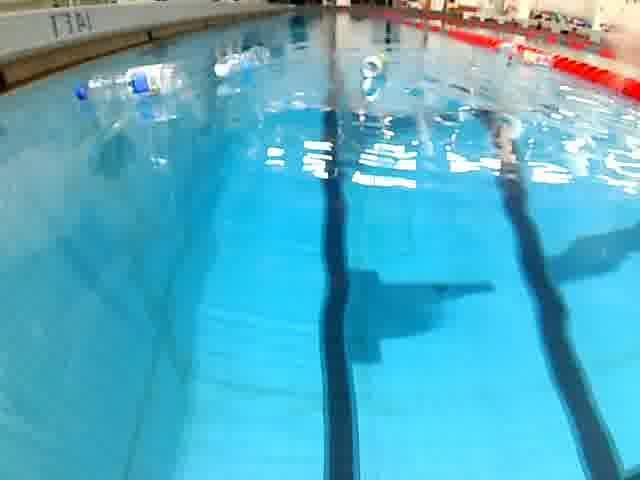Bottle: (68, 58, 190, 106), (208, 43, 278, 83)
Can: (358, 48, 394, 82)
